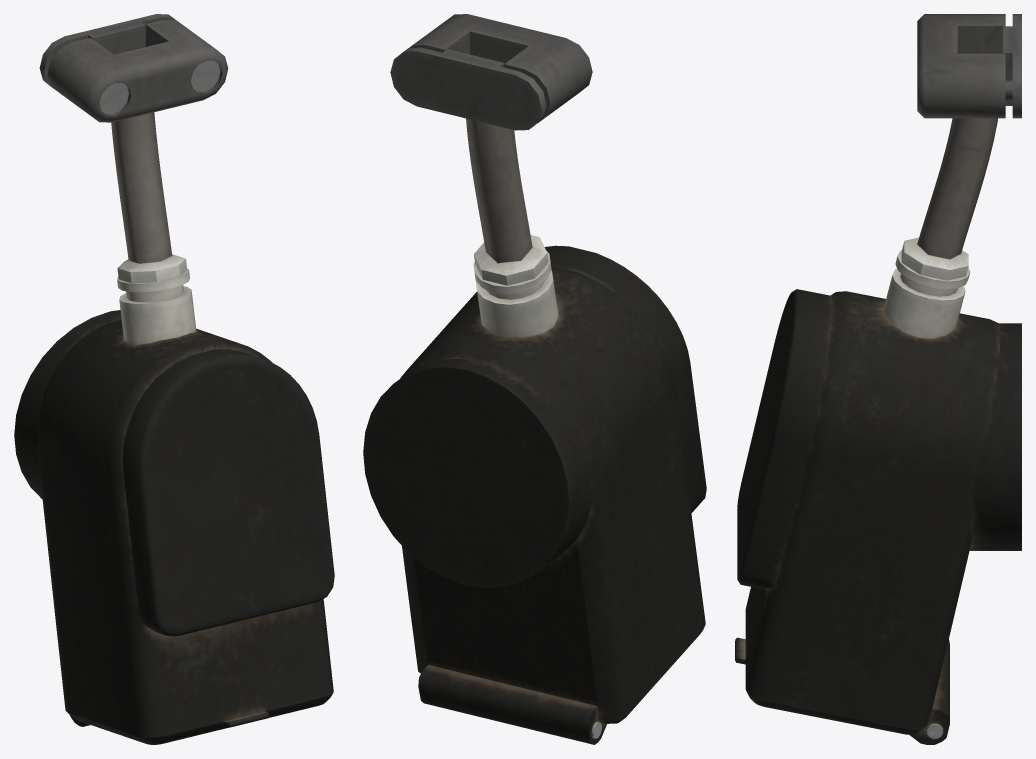
File: cable_plug_covered_2.gltf
The picture shows the model from 3 angles, left to right: view 1: azimuth 30°, elevation 25°; view 2: azimuth 150°, elevation 25°; view 3: azimuth 270°, elevation 25°; orthographic projection. The views are drawn at different scales.
Visible parts, largest first — view 1: cable_plug_covered_2; view 2: cable_plug_covered_2; view 3: cable_plug_covered_2.
Boxes of the visible parts, x1=… form: cable_plug_covered_2: x1=14, y1=14, x2=334, y2=744; cable_plug_covered_2: x1=363, y1=14, x2=706, y2=744; cable_plug_covered_2: x1=735, y1=14, x2=1021, y2=744.
Size of the model in its own units: 0.0567 by 0.1825 by 0.0712.
1 material, 1 textured.
